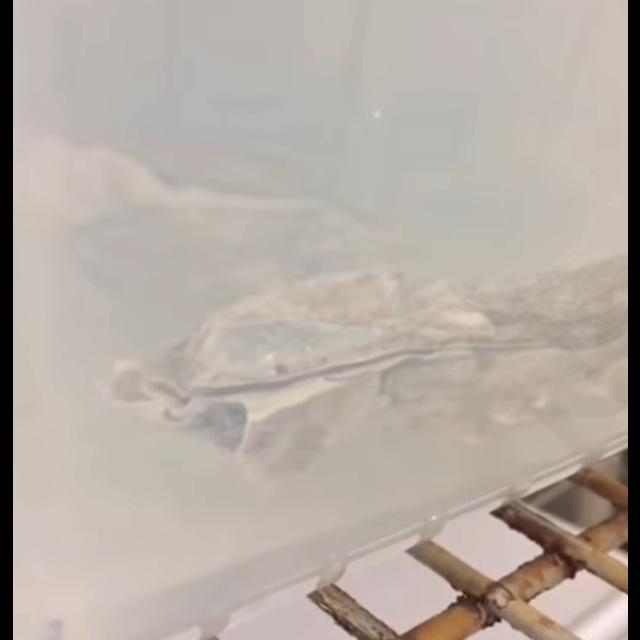Oyster-Closed: (101, 255, 628, 479)
Oyster-Indeterminate: (57, 129, 355, 241)
